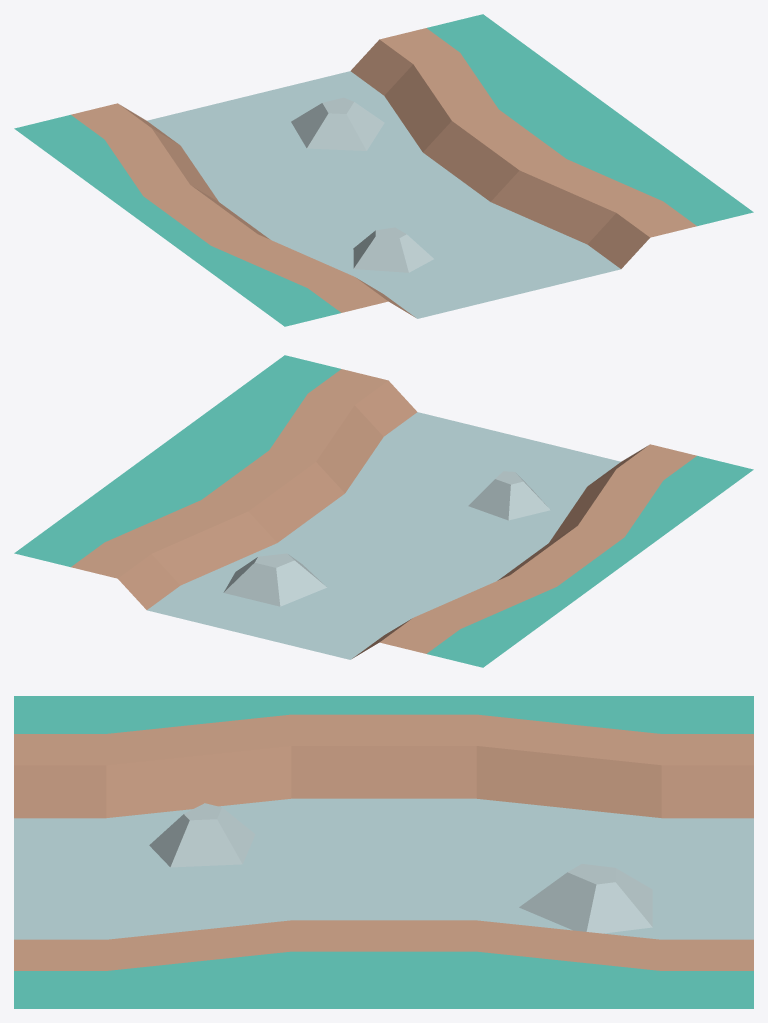
Rendered from ground_riverRocks.glb.
The picture shows the model from 3 angles, top to bottom: view 1: azimuth 30°, elevation 25°; view 2: azimuth 150°, elevation 25°; view 3: azimuth 270°, elevation 25°; orthographic projection. The views are drawn at different scales.
Parts seen in each view (by area): view 1: ground_riverRocks; view 2: ground_riverRocks; view 3: ground_riverRocks.
Boxes of the visible parts, left/top/right/bottom form: ground_riverRocks: left=14, top=14, right=753, bottom=326; ground_riverRocks: left=14, top=355, right=753, bottom=667; ground_riverRocks: left=14, top=696, right=753, bottom=1008.
Size of the model in its own units: 1 by 0.05 by 1.
